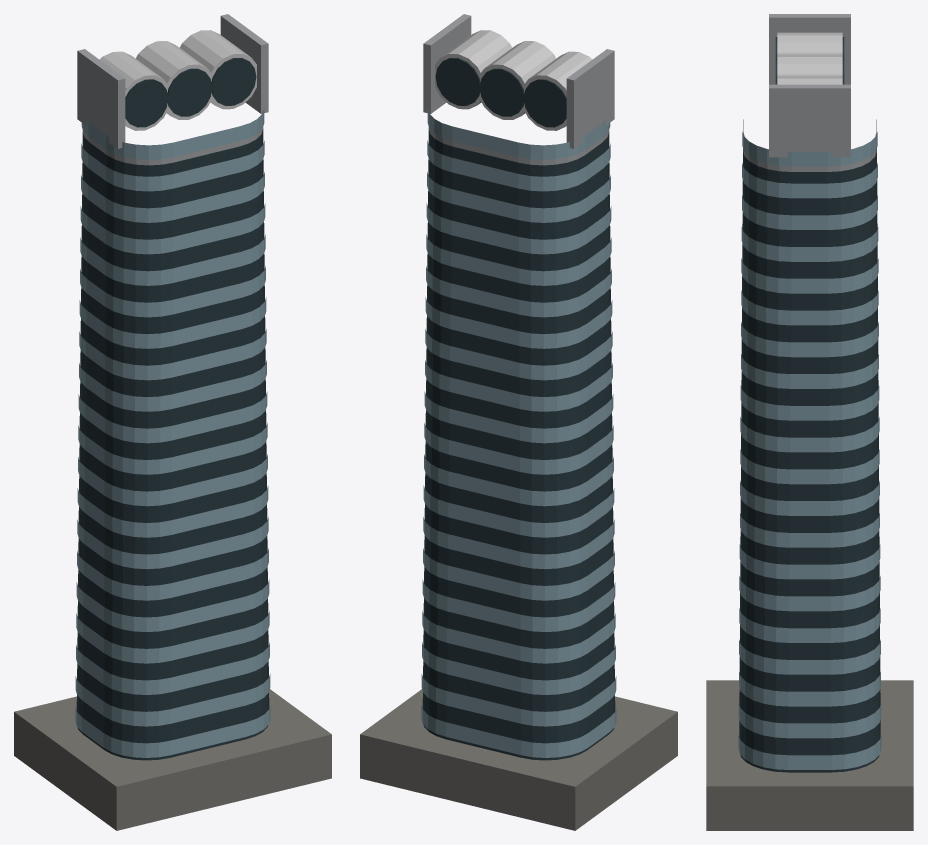
File: strata_se1.glb
3 renders of one model, left to right at view 1: azimuth 30°, elevation 25°; view 2: azimuth 150°, elevation 25°; view 3: azimuth 270°, elevation 25°, orthographic.
Parts seen in each view (by area): view 1: strata_se1; view 2: strata_se1; view 3: strata_se1.
Part boxes in pixels (box(x1,y1,x2,y2)): strata_se1: box(14, 14, 331, 830); strata_se1: box(360, 14, 677, 830); strata_se1: box(706, 14, 913, 830).
Bounding box in the file's own units: 46 × 147 × 38.
